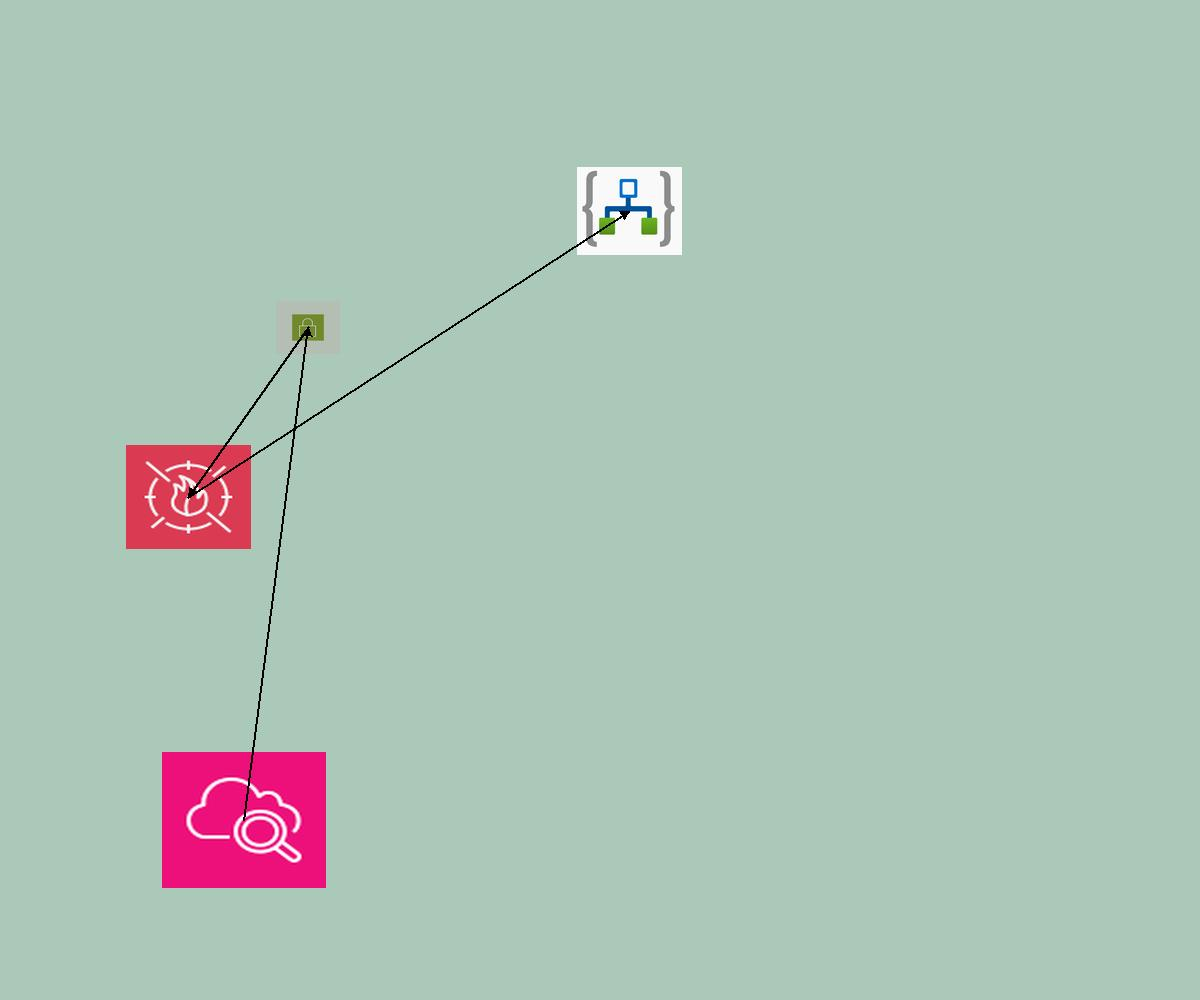AWS-CloudWatch: (162, 752, 326, 888)
AWS-Public-subnet: (276, 301, 340, 354)
AWS-WAF: (126, 445, 251, 549)
Azure_integration-204-Logic-Apps: (577, 167, 682, 255)
